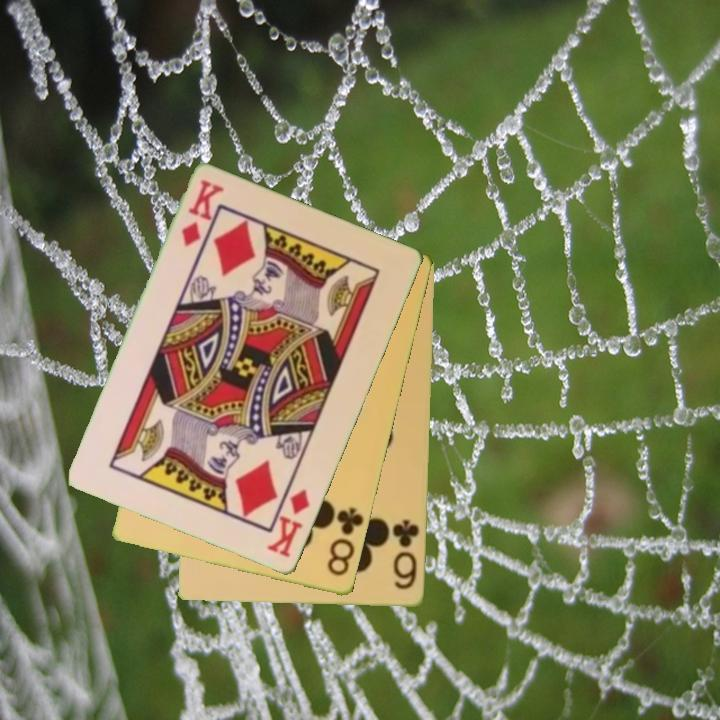6c: (390, 516, 423, 593)
8c: (324, 504, 367, 580)
Kd: (263, 486, 314, 561), (178, 177, 226, 250)
